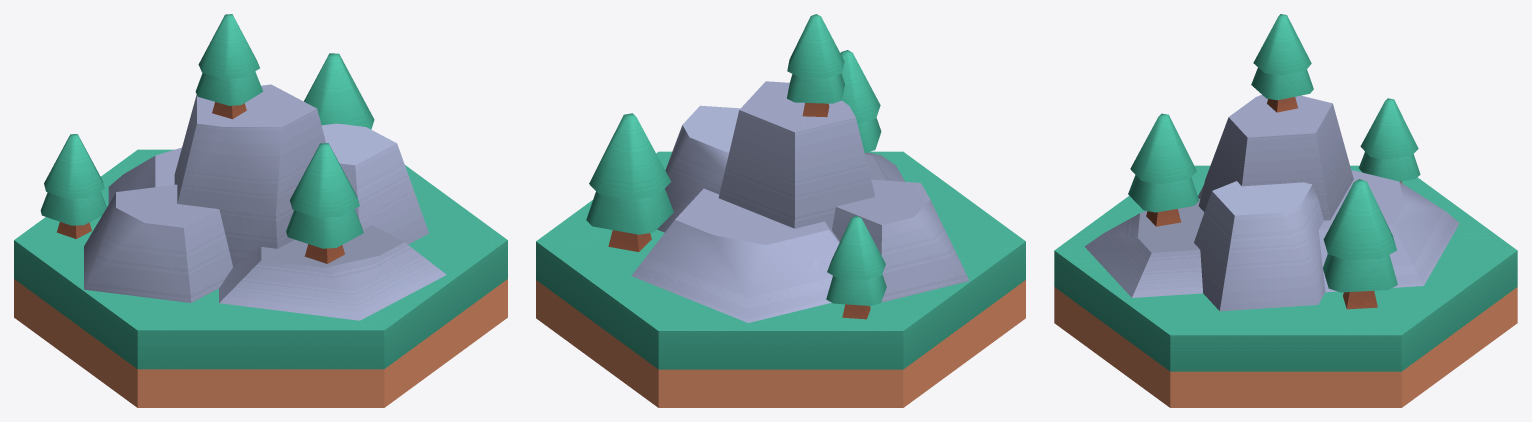
The model's file is grass-hill.glb.
3 views of the same model, side by side, from view 1: azimuth 30°, elevation 25°; view 2: azimuth 150°, elevation 25°; view 3: azimuth 270°, elevation 25° (orthographic). The views are drawn at different scales.
Visible parts, largest first — view 1: grass-hill; view 2: grass-hill; view 3: grass-hill.
Part boxes in pixels (bbox=[...]): grass-hill: bbox=[14, 14, 507, 407]; grass-hill: bbox=[536, 14, 1025, 407]; grass-hill: bbox=[1054, 14, 1517, 407].
Size of the model in its own units: 10 by 8.03 by 11.55.
1 material, 1 textured.
